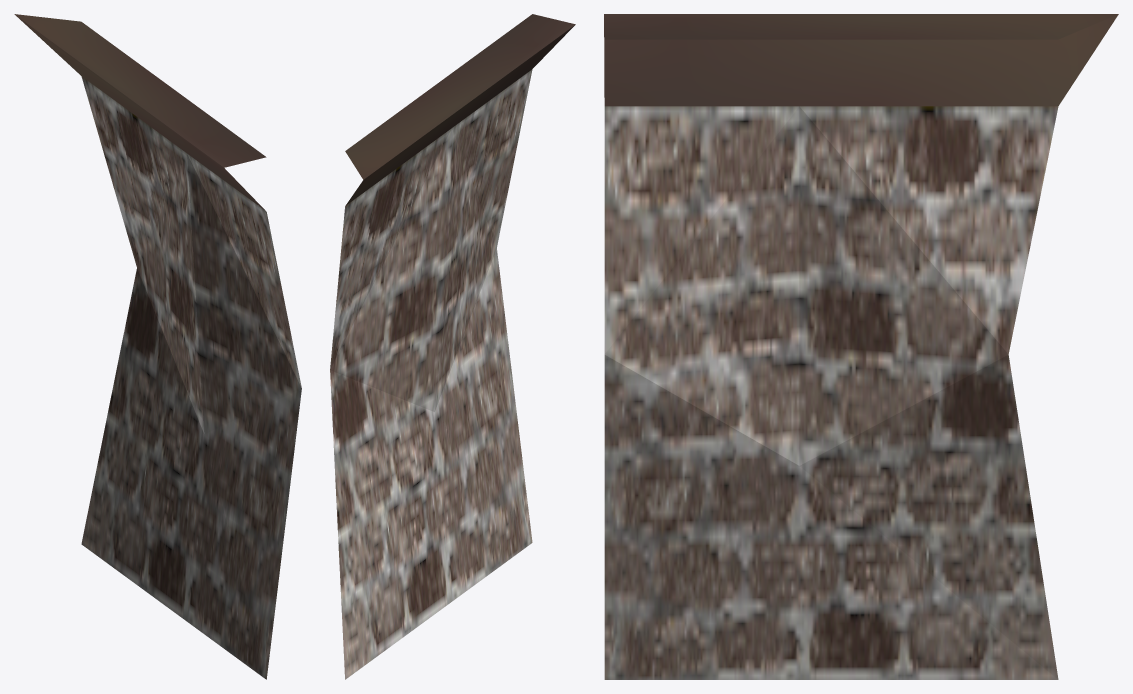
File: W_A2l_x_Gedreht_1024.glb
3 renders of one model, left to right at view 1: azimuth 30°, elevation 25°; view 2: azimuth 150°, elevation 25°; view 3: azimuth 270°, elevation 25°, orthographic. The views are drawn at different scales.
Visible parts, largest first — view 1: polySurfaceShape1204, polySurfaceShape1206; view 2: polySurfaceShape1204, polySurfaceShape1206; view 3: polySurfaceShape1204, polySurfaceShape1206.
Boxes of the visible parts, left/top/right/bottom form: polySurfaceShape1204: left=81, top=76, right=301, bottom=679; polySurfaceShape1206: left=14, top=14, right=266, bottom=210; polySurfaceShape1204: left=330, top=69, right=532, bottom=679; polySurfaceShape1206: left=345, top=14, right=575, bottom=205; polySurfaceShape1204: left=604, top=106, right=1058, bottom=679; polySurfaceShape1206: left=604, top=14, right=1118, bottom=106.
Bounding box in the file's own units: 0.0607 × 0.3891 × 0.2836.
Materials: 2 (2 with a texture image).
